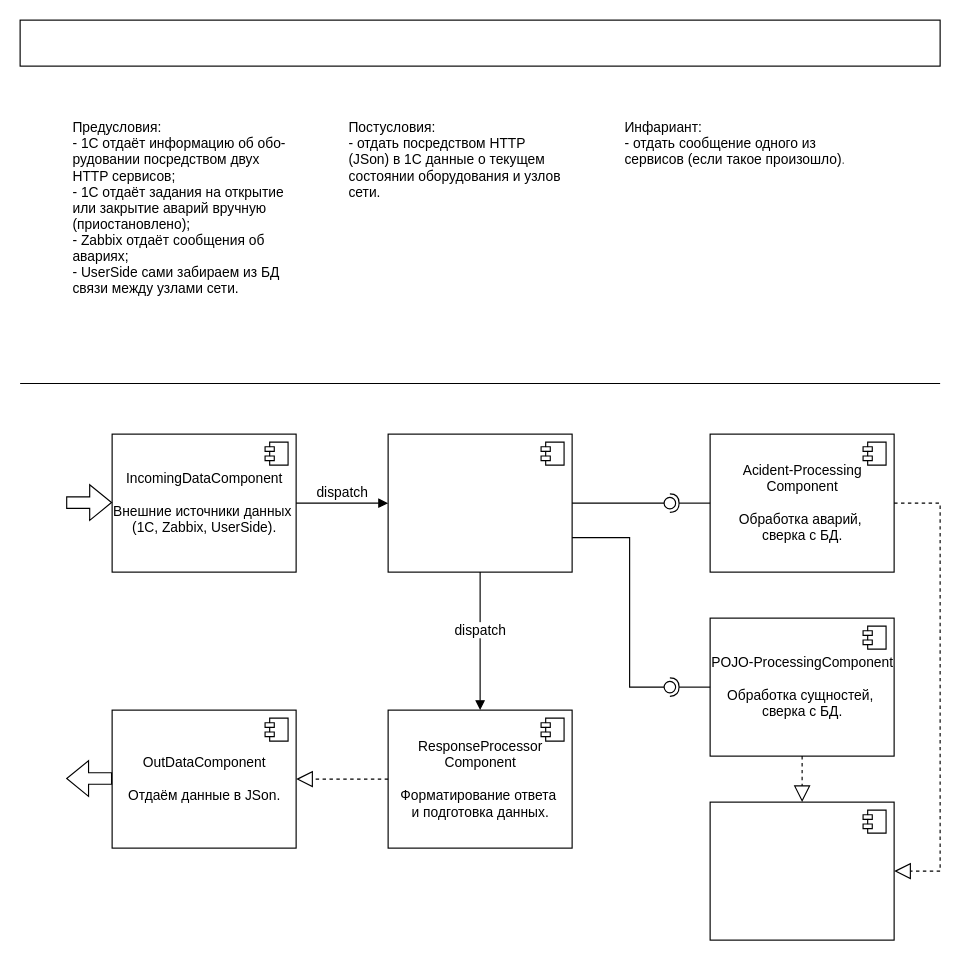
Some shapes in this 976 by 960 pixel diagram are drawn without their labels. The box of each missing label's shape, as (x1, y1, x2, y2) in pixels:
CommandProcessor Component Выбор действий при обновлении влетающих данных.: (387, 433, 572, 572)
DataBaseComponent Чтение и запись данных из/в БД: (709, 801, 894, 940)
Панель аварий.: (19, 19, 940, 66)
